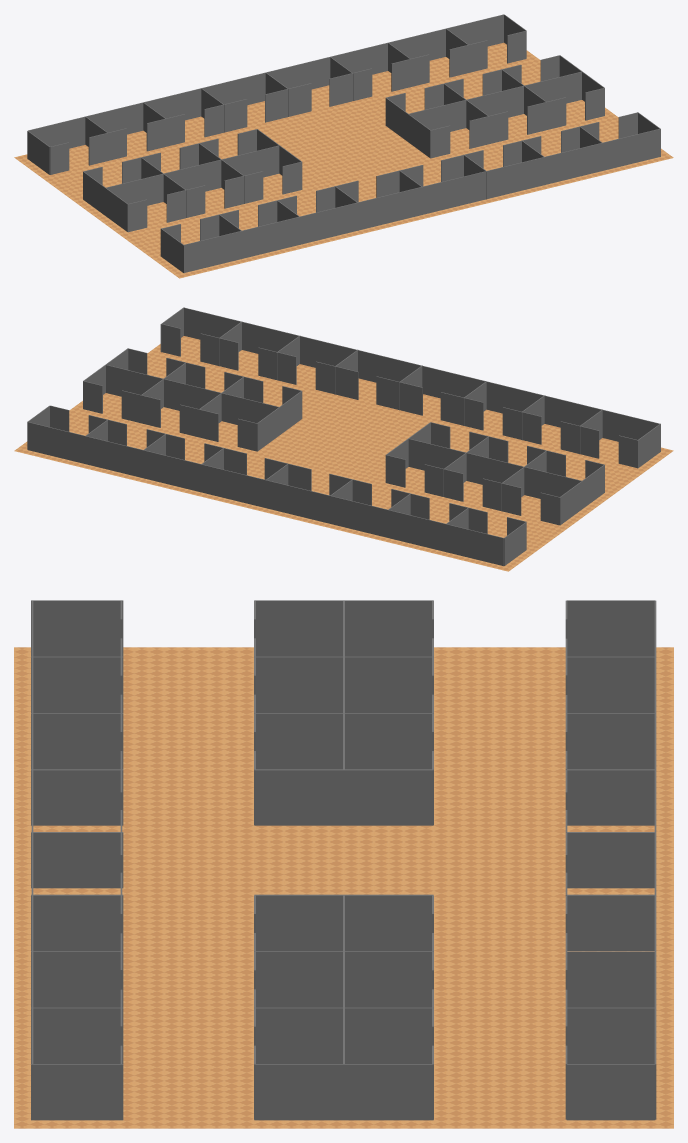
Rendered from yas.obj.
3 renders of one model, top to bottom at view 1: azimuth 30°, elevation 25°; view 2: azimuth 150°, elevation 25°; view 3: azimuth 270°, elevation 25°, orthographic. The views are drawn at different scales.
Parts seen in each view (by area): view 1: Floor, Down_side_walls pCube22, Up_side_walls pCube16, Middle Middle_Left pCube31, Middle_Right Middle pCube32, pCube27 Middle_Right Middle, Middle Middle_Left pCube60, Up_side_walls Door_space pCube34, Up_side_walls Door_space pCube55, Up_side_walls Door_space pCube55 pCube58, Up_side_walls Door_space pCube55 pCube59, Down_side_walls pCube21 (+41 smaller); view 2: Floor, Up_side_walls pCube16, Down_side_walls pCube22, Middle Middle_Left pCube31, Middle_Right Middle pCube32, pCube27 Middle_Right Middle, Middle Middle_Left pCube60, Down_side_walls Door_space1 pCube57, Down_side_walls Door_space1 pCube56, Down_side_walls pCube21, Down_side_walls Door_space1 pCube45, Down_side_walls Door_space1 pCube44 (+43 smaller); view 3: Floor, Middle_Right Middle pCube30, Middle Middle_Left pCube25, pCube27 Middle_Right Middle, Middle_Right Middle pCube29, Middle pCube23 Middle_Left, Middle_Right Middle pCube28, Middle Middle_Left pCube24, Middle Middle_Left pCube60, Down_side_walls pCube19, Down_side_walls pCube6, Down_side_walls pCube8 (+17 smaller).
Boxes of the visible parts, left/top/right/bottom form: Floor: left=14, top=42, right=673, bottom=278; Down_side_walls pCube22: left=184, top=128, right=660, bottom=272; Up_side_walls pCube16: left=28, top=14, right=503, bottom=148; Middle Middle_Left pCube31: left=105, top=145, right=279, bottom=205; Middle_Right Middle pCube32: left=409, top=71, right=581, bottom=131; pCube27 Middle_Right Middle: left=385, top=97, right=431, bottom=158; Middle Middle_Left pCube60: left=83, top=171, right=128, bottom=231; Up_side_walls Door_space pCube34: left=88, top=128, right=126, bottom=165; Up_side_walls Door_space pCube55: left=146, top=114, right=184, bottom=151; Up_side_walls Door_space pCube55 pCube58: left=449, top=40, right=487, bottom=77; Up_side_walls Door_space pCube55 pCube59: left=391, top=54, right=429, bottom=91; Down_side_walls pCube21: left=160, top=228, right=184, bottom=273; Floor: left=14, top=336, right=673, bottom=571; Up_side_walls pCube16: left=27, top=422, right=503, bottom=566; Down_side_walls pCube22: left=184, top=307, right=659, bottom=441; Middle Middle_Left pCube31: left=408, top=438, right=581, bottom=498; Middle_Right Middle pCube32: left=106, top=364, right=278, bottom=424; pCube27 Middle_Right Middle: left=256, top=391, right=302, bottom=451; Middle Middle_Left pCube60: left=559, top=464, right=604, bottom=525; Down_side_walls Door_space1 pCube57: left=200, top=333, right=238, bottom=370; Down_side_walls Door_space1 pCube56: left=258, top=347, right=296, bottom=384; Down_side_walls pCube21: left=637, top=423, right=660, bottom=468; Down_side_walls Door_space1 pCube45: left=335, top=366, right=358, bottom=399; Down_side_walls Door_space1 pCube44: left=440, top=392, right=463, bottom=425; Floor: left=14, top=647, right=673, bottom=1128; Middle_Right Middle pCube30: left=254, top=1064, right=433, bottom=1120; Middle Middle_Left pCube25: left=254, top=769, right=433, bottom=825; pCube27 Middle_Right Middle: left=254, top=894, right=433, bottom=951; Middle_Right Middle pCube29: left=254, top=1007, right=433, bottom=1063; Middle pCube23 Middle_Left: left=254, top=656, right=433, bottom=712; Middle_Right Middle pCube28: left=254, top=951, right=433, bottom=1007; Middle Middle_Left pCube24: left=254, top=713, right=433, bottom=769; Middle Middle_Left pCube60: left=254, top=600, right=433, bottom=656; Down_side_walls pCube19: left=31, top=1064, right=123, bottom=1120; Down_side_walls pCube6: left=31, top=894, right=123, bottom=951; Down_side_walls pCube8: left=31, top=1007, right=123, bottom=1063.
Size of the model in its own units: 76.79 by 4.28 by 44.5.
Materials: 2 (1 with a texture image).
